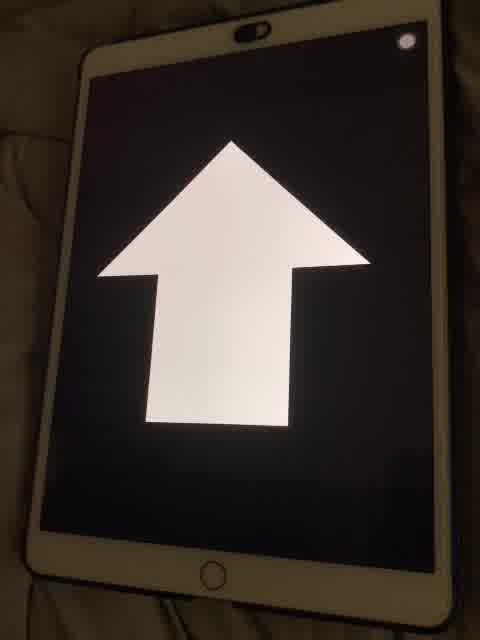up: (95, 132, 375, 430)
